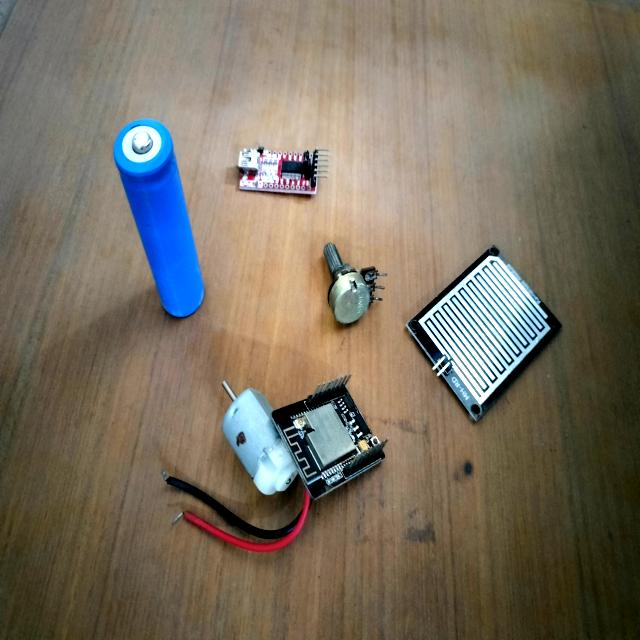3-3-Volt-Battery: (96, 87, 216, 354)
DC-Motor: (210, 368, 306, 506)
ESP32-CAM: (270, 361, 397, 517)
FT-232-USB-Serial-Module: (226, 130, 354, 214)
Raindrops-Module: (398, 234, 573, 425)
Taper-Potentiometer: (308, 224, 397, 348)
